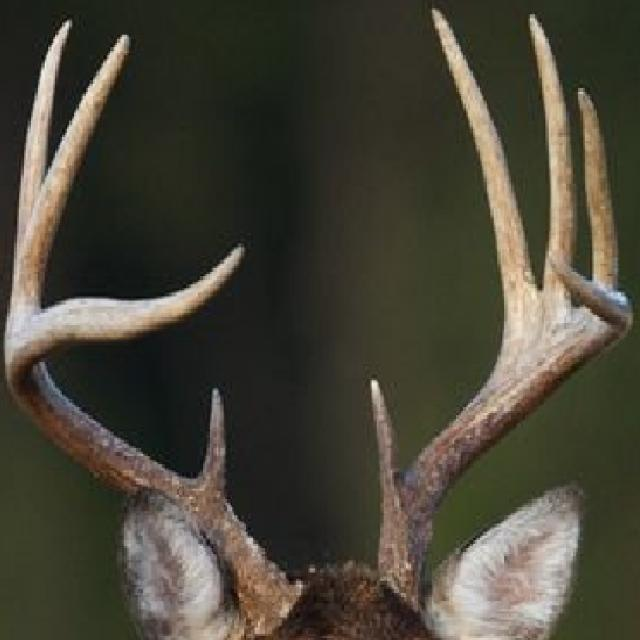L-F: (378, 250, 634, 617)
L-G1: (368, 374, 404, 511)
L-G2: (431, 8, 539, 317)
R-F: (4, 244, 303, 635)
R-G1: (191, 386, 228, 505)
R-G3: (4, 34, 131, 355)
